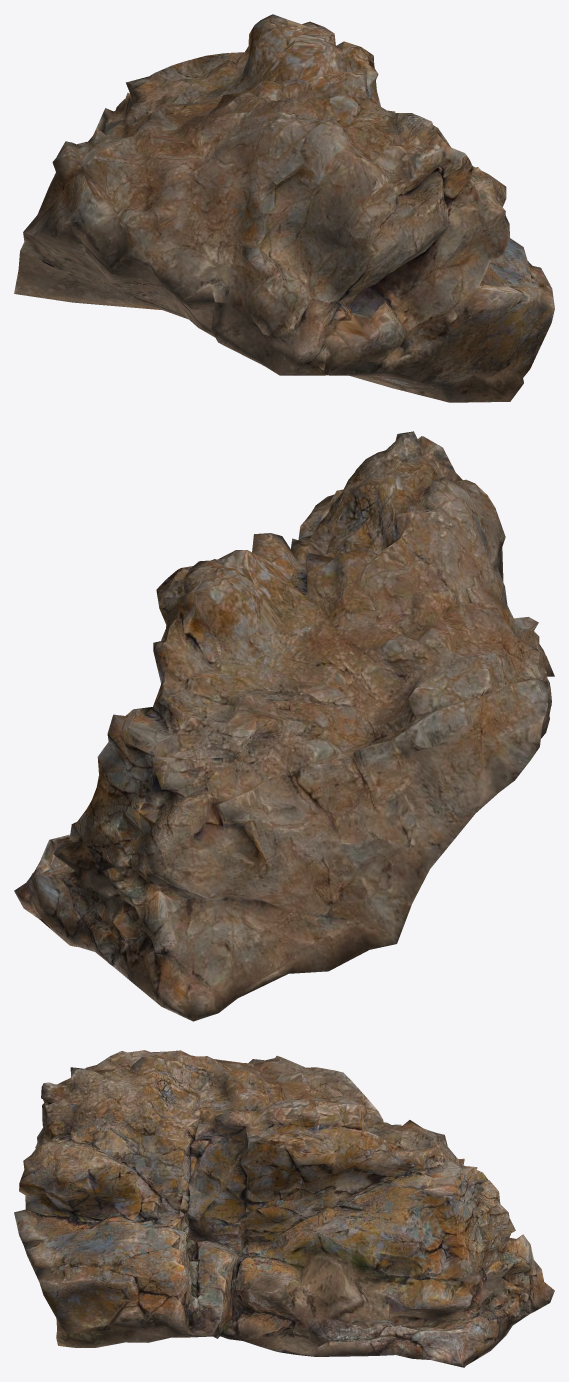
Rendered from pedra_grande.glb.
The picture shows the model from 3 angles, top to bottom: view 1: azimuth 30°, elevation 25°; view 2: azimuth 150°, elevation 25°; view 3: azimuth 270°, elevation 25°; orthographic projection. The views are drawn at different scales.
Parts seen in each view (by area): view 1: pedra_grande; view 2: pedra_grande; view 3: pedra_grande.
Boxes of the visible parts, x1,y1,x2,y2 form: pedra_grande: (14,14,554,402); pedra_grande: (14,431,554,1021); pedra_grande: (14,1050,554,1367).
Bounding box in the file's own units: 1.28 × 0.9959 × 1.83.
Materials: 1 (1 with a texture image).
